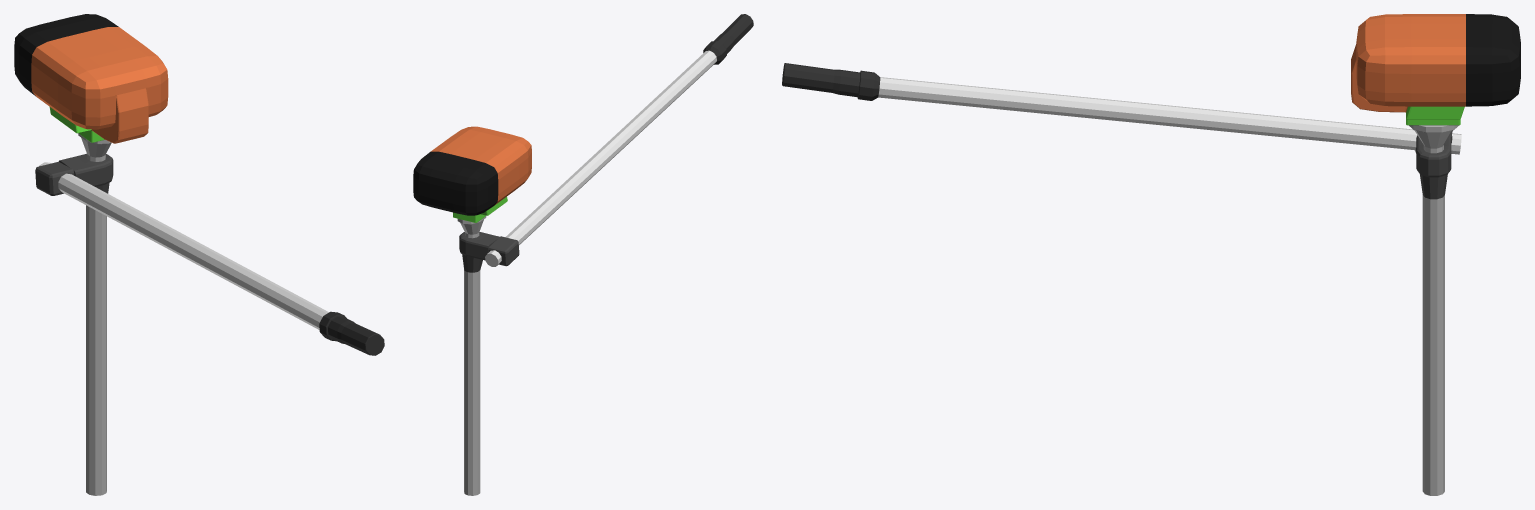
File: boatEngineMain.fbx
The picture shows the model from 3 angles, left to right: view 1: azimuth 30°, elevation 25°; view 2: azimuth 150°, elevation 25°; view 3: azimuth 270°, elevation 25°; orthographic projection. The views are drawn at different scales.
Parts seen in each view (by area): view 1: MainEngine, RotorAxcel, Accelarator_Axcel; view 2: MainEngine, RotorAxcel, Accelarator_Axcel; view 3: MainEngine, Accelarator_Axcel, RotorAxcel.
Part boxes in pixels (bbox=[...]): MainEngine: bbox=[14, 14, 168, 143]; RotorAxcel: bbox=[35, 133, 113, 495]; Accelarator_Axcel: bbox=[39, 162, 384, 355]; MainEngine: bbox=[413, 126, 531, 222]; RotorAxcel: bbox=[457, 216, 519, 495]; Accelarator_Axcel: bbox=[485, 14, 753, 266]; MainEngine: bbox=[1351, 14, 1520, 125]; Accelarator_Axcel: bbox=[782, 63, 1461, 154]; RotorAxcel: bbox=[1409, 125, 1458, 495].
Bounding box in the file's own units: 64.31 × 282 × 412.
